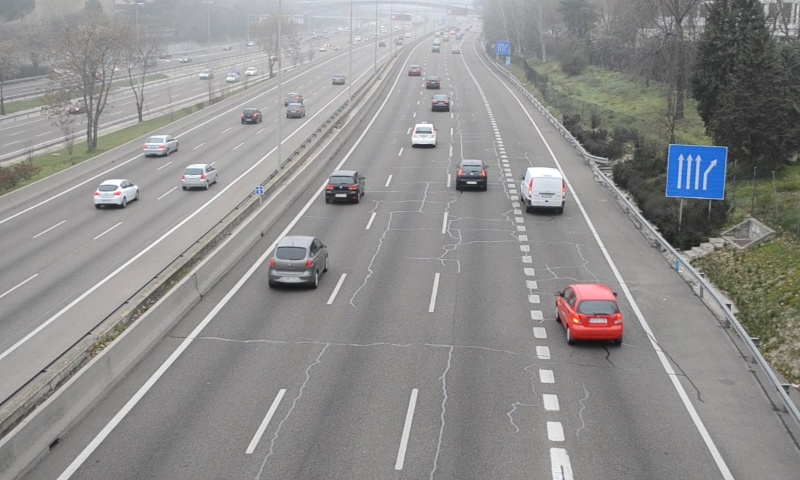car: (558, 283, 622, 341), (266, 236, 329, 286), (323, 170, 364, 201), (456, 158, 488, 191), (410, 122, 435, 145), (430, 93, 451, 112)
van: (522, 167, 566, 212)
